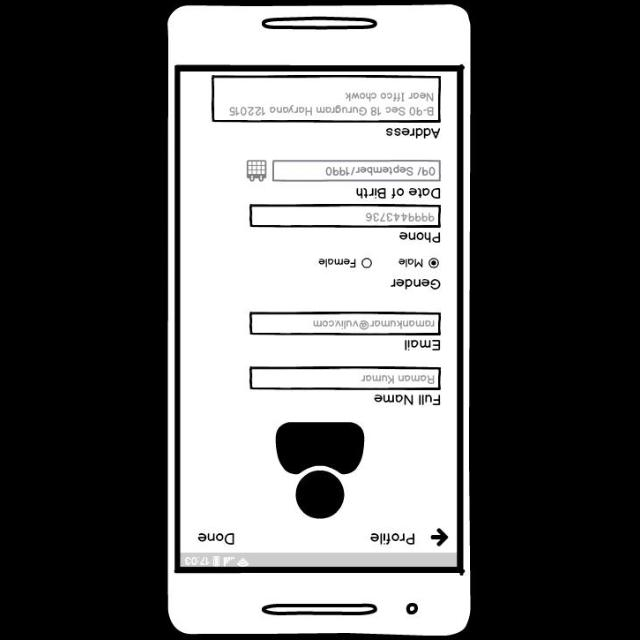checkbox: (362, 260, 372, 268), (429, 260, 438, 268)
icon: (275, 421, 365, 519), (246, 160, 266, 180), (430, 528, 448, 546)
input: (210, 76, 440, 122), (249, 311, 441, 335), (249, 203, 441, 227), (250, 366, 440, 389), (272, 159, 440, 181)
text: (356, 187, 440, 200), (372, 394, 440, 404), (388, 278, 439, 290), (384, 128, 440, 138), (368, 532, 414, 544), (402, 338, 440, 352), (398, 231, 440, 243), (198, 532, 235, 544), (318, 258, 356, 268), (398, 258, 422, 268)
